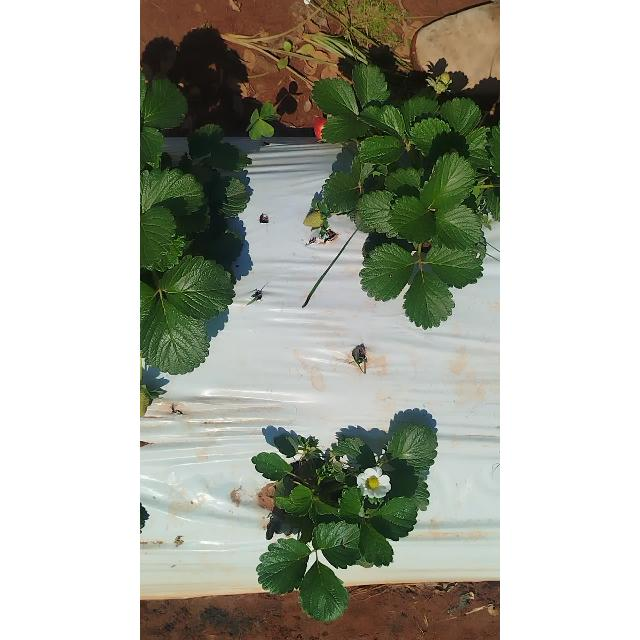no-maduro: (302, 211, 322, 227)
